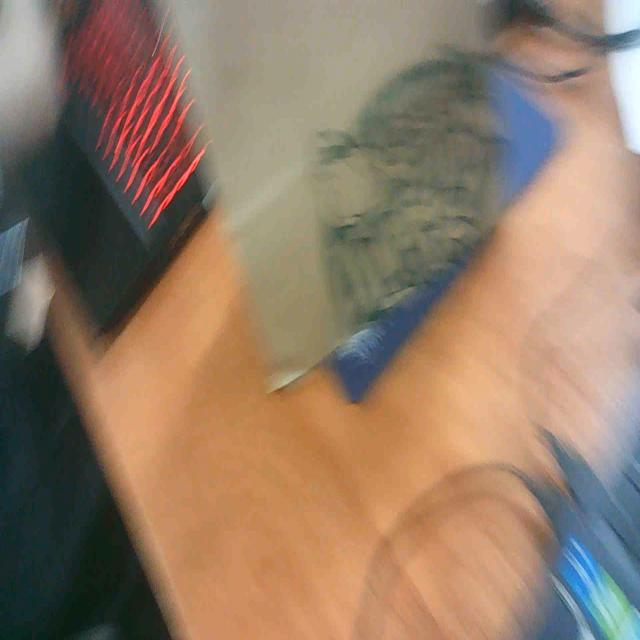bag: (165, 0, 528, 402)
